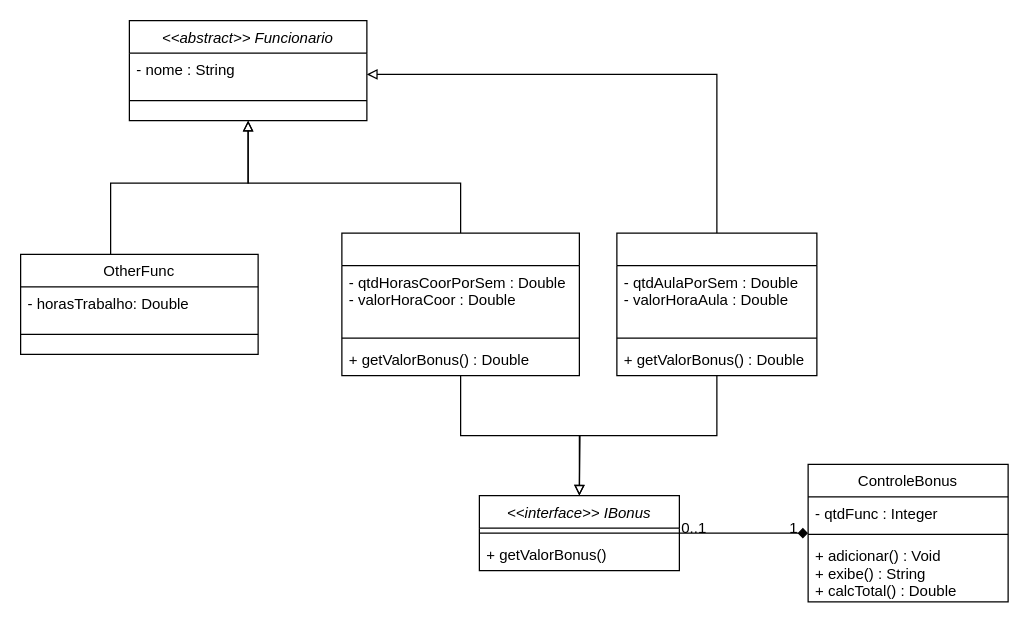
Some shapes in this 1029 by 623 pixel diagram are drawn without their labels. The shapes that lost their labels are listed below. From the top down, each one's box as (x1, y1, x2, y2) in pixels, then its label:
(341, 232, 579, 376): Coordenador
(616, 232, 817, 376): Professor
